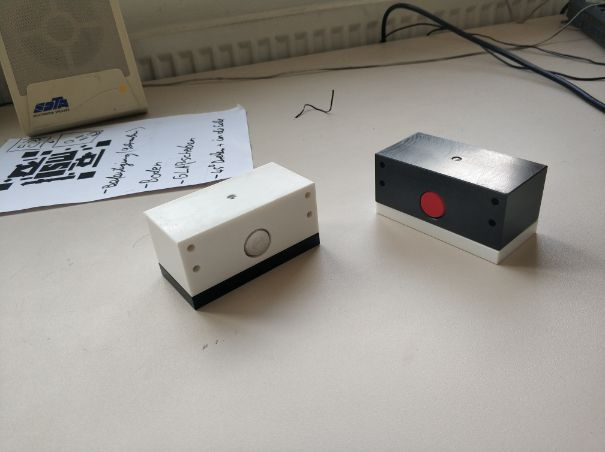black+white+silver: (141, 160, 326, 313)
white+black+red: (371, 130, 551, 270)
